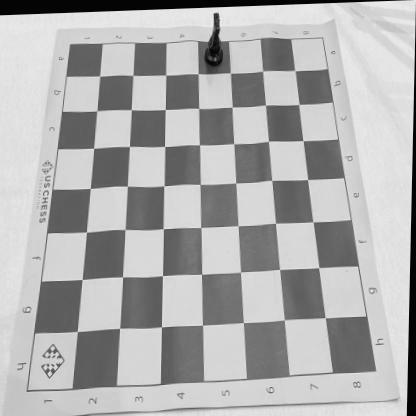black-knight: (204, 11, 224, 66)
